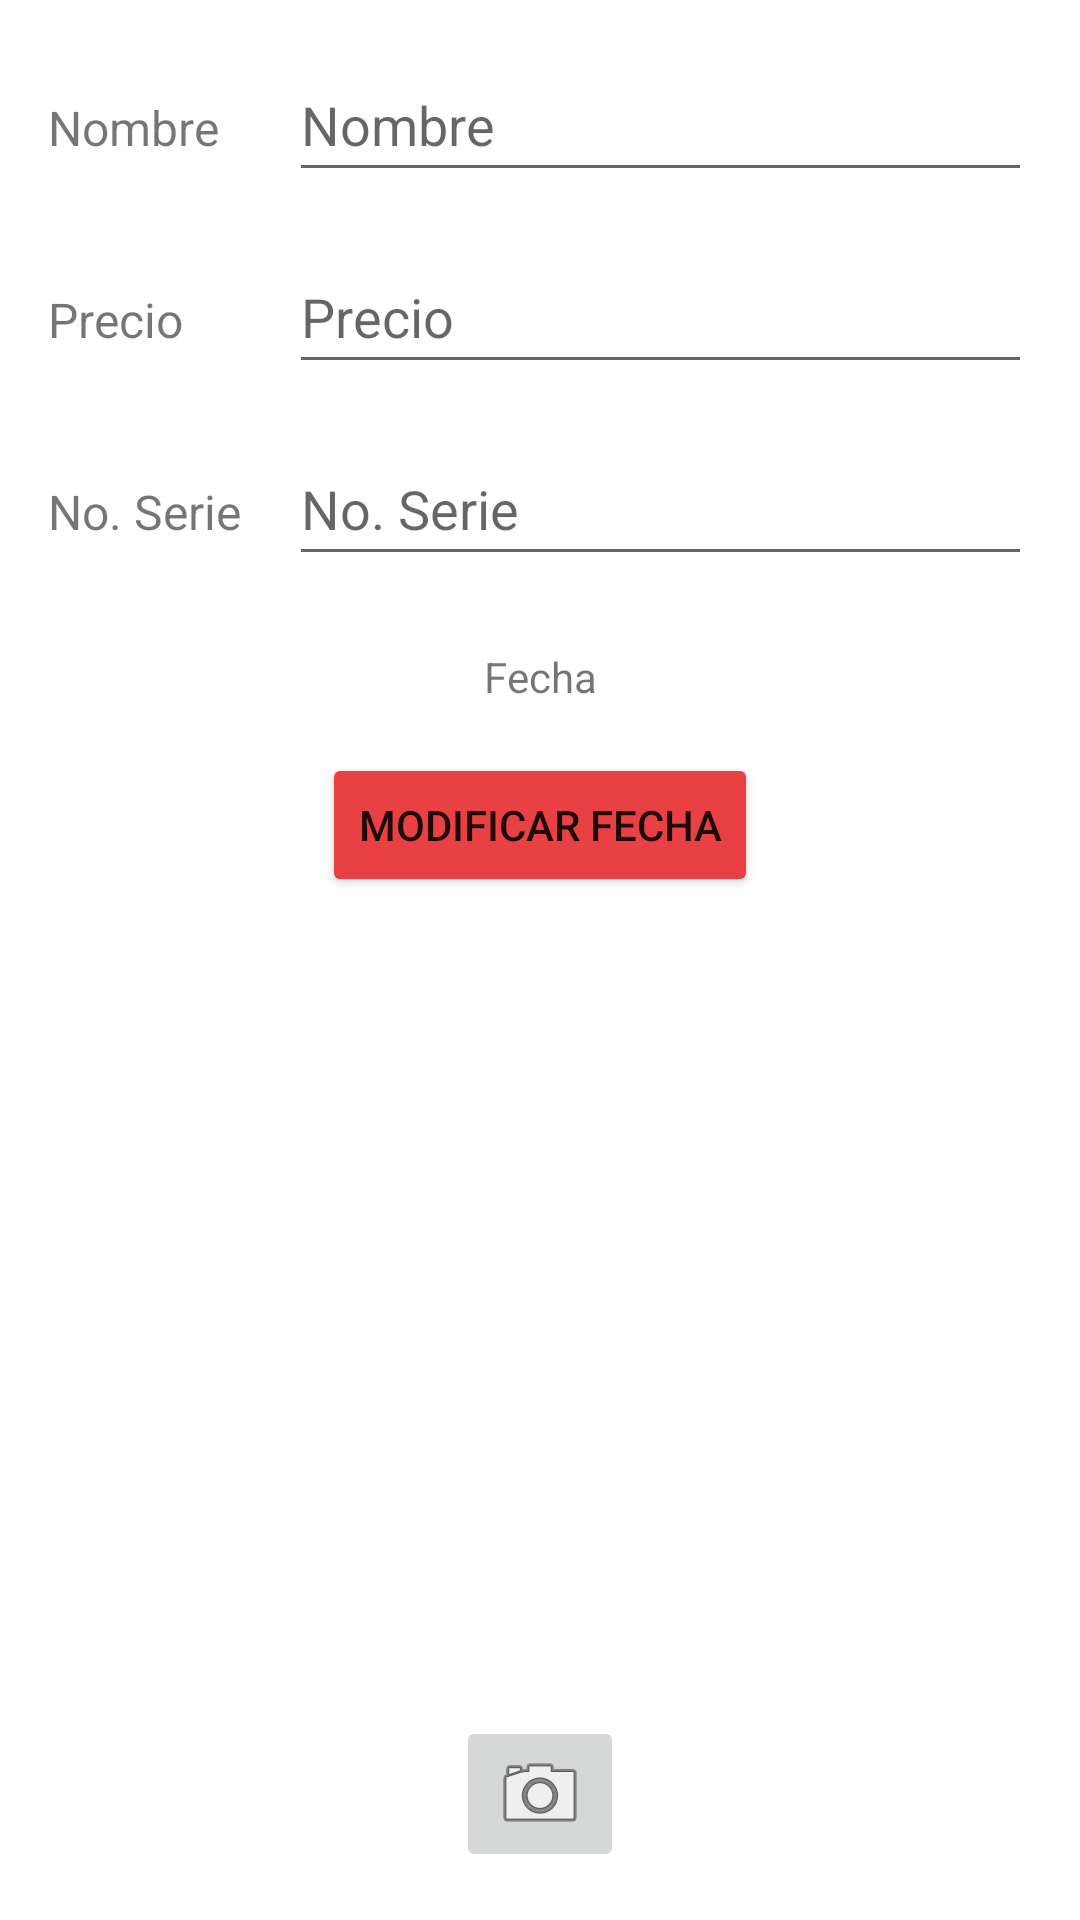

Icon click points for this 1080*1920 phone screenshot, format point (x, y):
camera: point (540, 1794)
